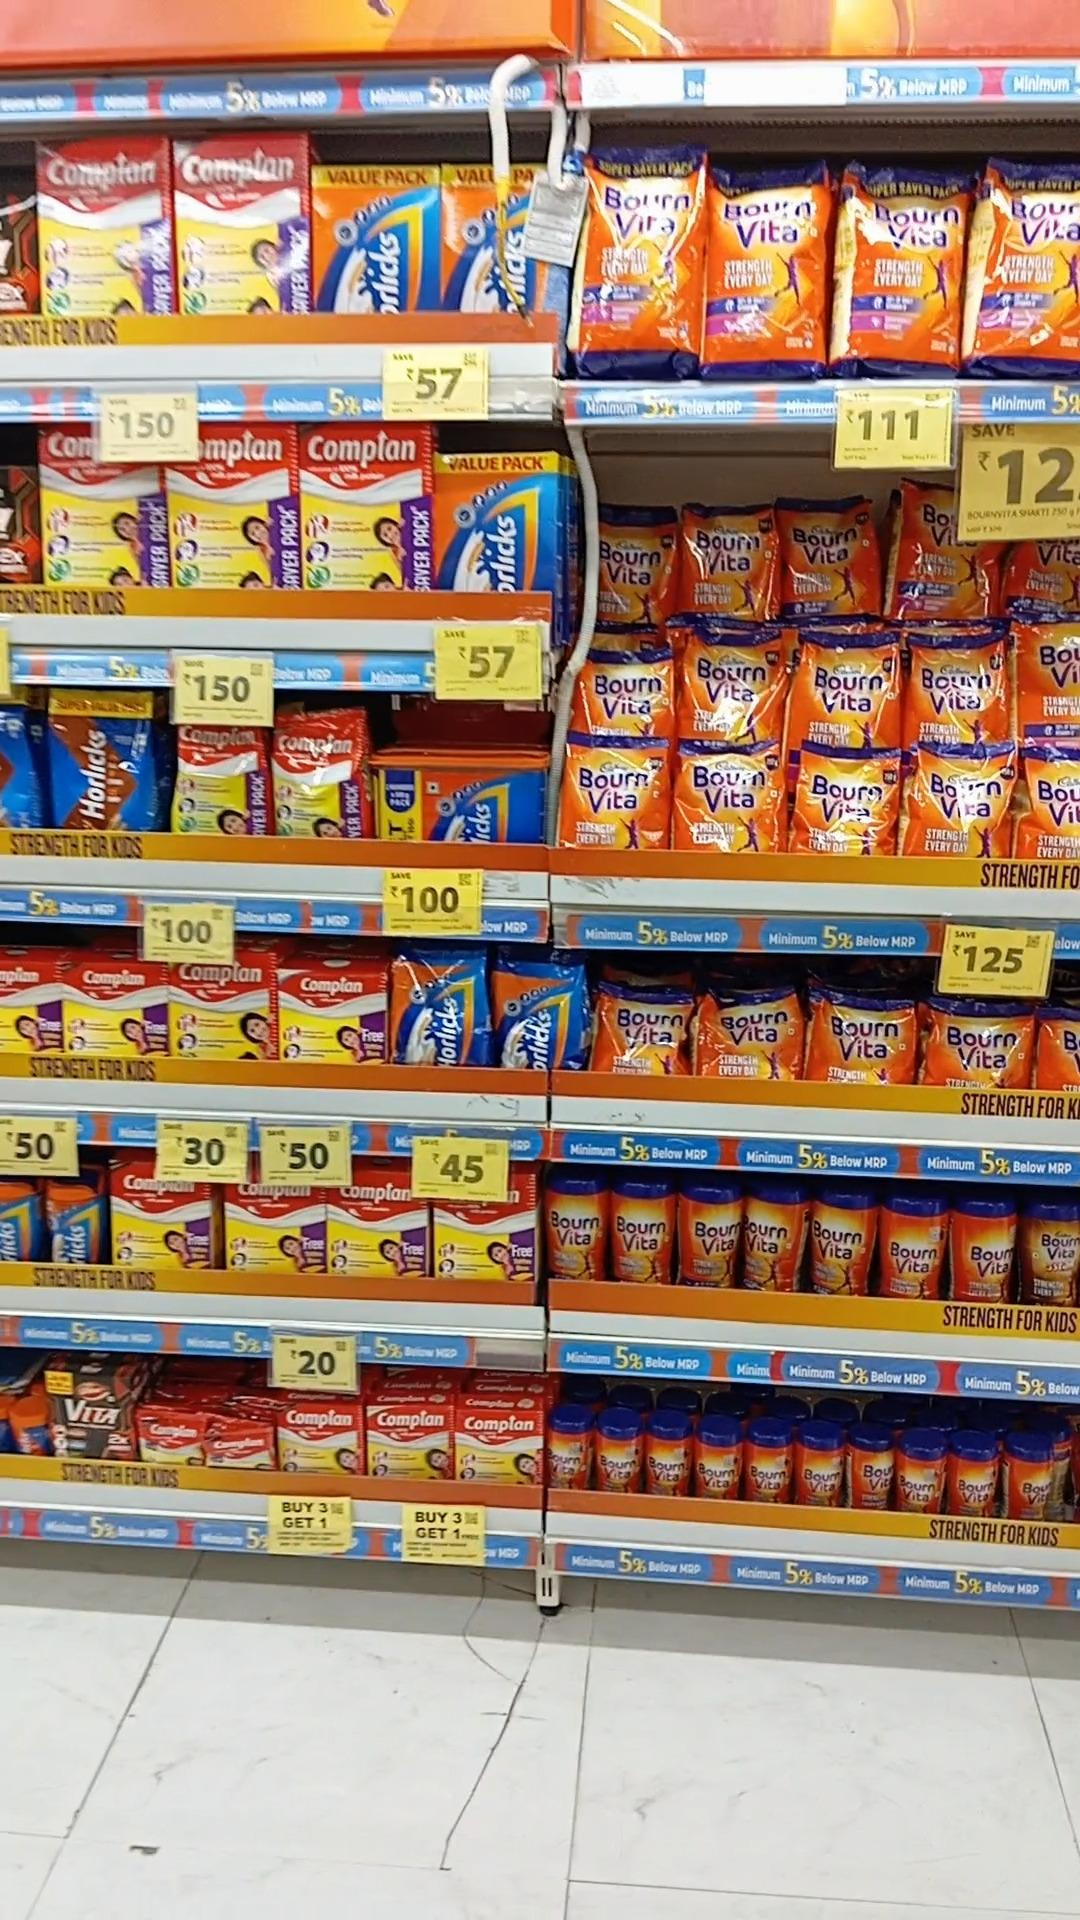BOURN_VITA_1_KG_POUCH: (578, 145, 704, 376), (708, 158, 831, 381), (840, 164, 963, 375), (975, 157, 1080, 380)
BOURN_VITA_200_G_JAR: (793, 1420, 844, 1510), (593, 1412, 642, 1495), (1009, 1435, 1055, 1522), (645, 1415, 690, 1499), (949, 1439, 994, 1522), (898, 1439, 944, 1519), (745, 1424, 790, 1505), (547, 1415, 591, 1494), (699, 1422, 738, 1502), (852, 1436, 893, 1514)
BOURN_VITA_500_G_JAR: (810, 1184, 868, 1299), (953, 1199, 1015, 1304), (611, 1179, 670, 1287), (545, 1171, 604, 1278), (679, 1182, 740, 1286), (744, 1182, 799, 1295), (885, 1195, 943, 1299)
BOURN_VITA_500_G_POUCH: (928, 1000, 1036, 1095), (814, 989, 913, 1083), (699, 992, 799, 1080), (600, 986, 682, 1076)
BOURN_VITA_750_G_POUCH: (899, 481, 1013, 620), (796, 633, 902, 749), (794, 748, 902, 860), (913, 630, 1015, 748), (564, 737, 669, 852), (786, 497, 882, 616), (687, 630, 790, 741), (683, 501, 775, 624), (683, 746, 785, 856), (916, 748, 1011, 856), (596, 500, 676, 622), (582, 647, 682, 736), (1019, 612, 1080, 745), (1018, 745, 1080, 861)
BOURN_VITA_FIVE_STAR_MAGIC_500_G_JAR: (1025, 1201, 1080, 1311)
COMPLAN_CHOCOLATE_1_KG_PACK: (38, 136, 167, 313), (175, 136, 303, 314), (38, 422, 171, 591), (297, 421, 429, 591), (171, 422, 298, 592)
COMPLAN_CHOCOLATE_200_GMS_PACK: (278, 1399, 363, 1476)
COMPLAN_CHOCOLATE_500_GMS_PACK: (111, 1159, 212, 1270), (173, 959, 276, 1062), (62, 959, 167, 1055), (0, 959, 59, 1052)
COMPLAN_CREAMY_CLASSIC_500_G_PACK: (280, 969, 386, 1064)
COMPLAN_KESAR_BADAM_200_GMS_PACK: (367, 1404, 454, 1480)
COMPLAN_RC_POUCH_700_GMS_12: (272, 712, 371, 840), (177, 723, 270, 835)
HORLICK_CHOCOLATE_750_G_POUCH: (44, 683, 156, 829)
HORLICK_CLASSIC_MALT_500_G_JAR: (40, 1167, 102, 1267)
HORLICK_CLASSIC_MALT_750_G_POUCH: (390, 945, 489, 1067), (492, 960, 583, 1069)
